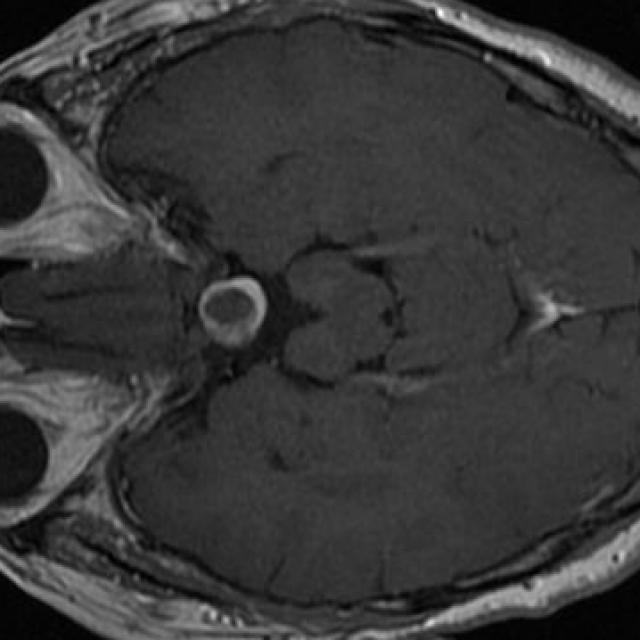pituitary: (196, 276, 266, 349)
